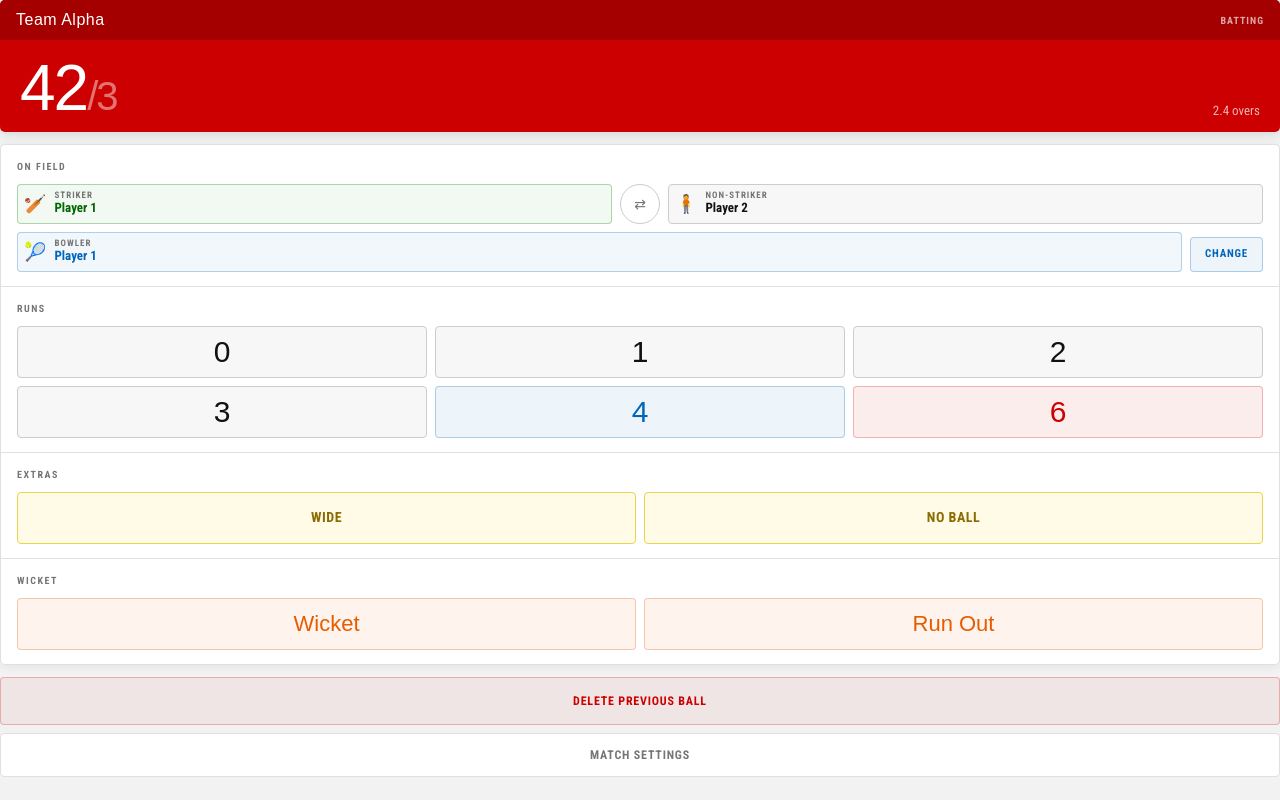
UmpireControls › opens Run Out popup when Run Out button (wicket section) is clicked
// On initial render only one "Run Out" button is visible (no popups open yet)
Click the button "Run Out".
click(954, 624)  # box [644, 598, 1263, 650]
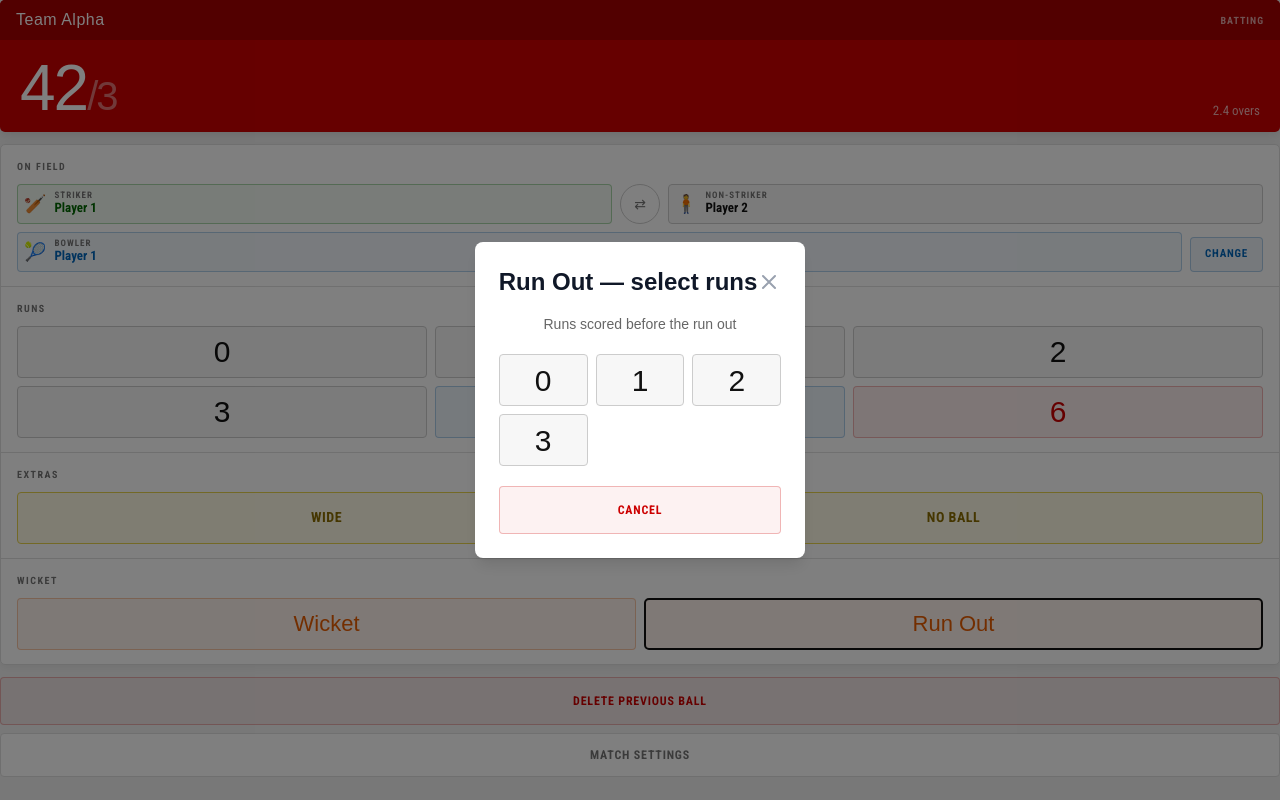
Now the heading "Run Out — select runs" is shown, box [499, 266, 757, 298]
